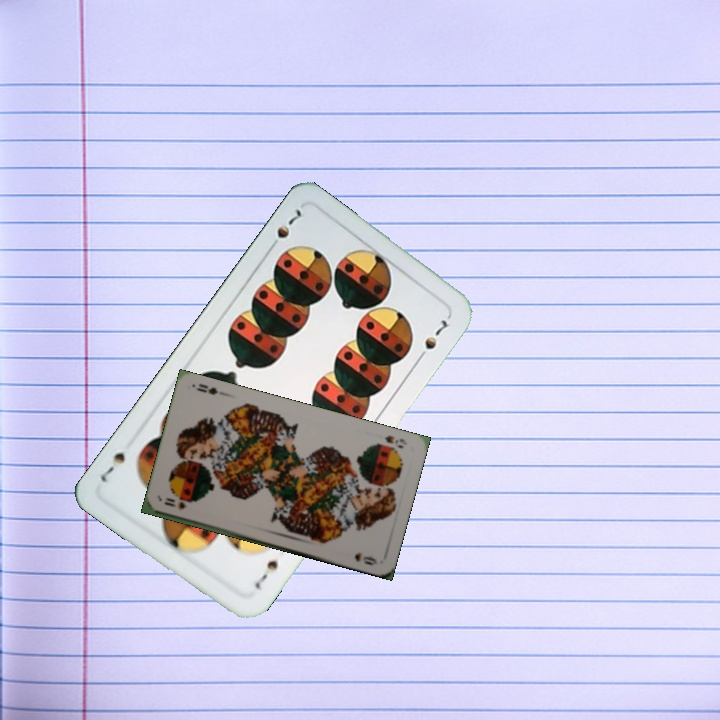S7: (264, 205, 304, 254), (250, 556, 281, 592)
SO: (381, 431, 409, 451), (160, 497, 190, 512)
